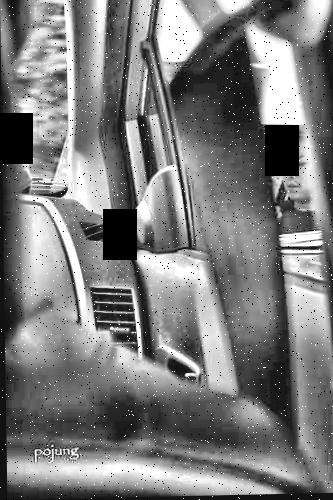seatbelt: (162, 29, 298, 394)
